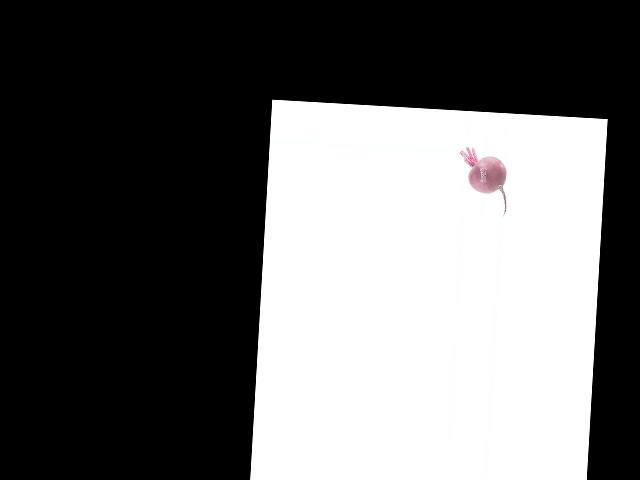beet: (456, 146, 509, 218)
